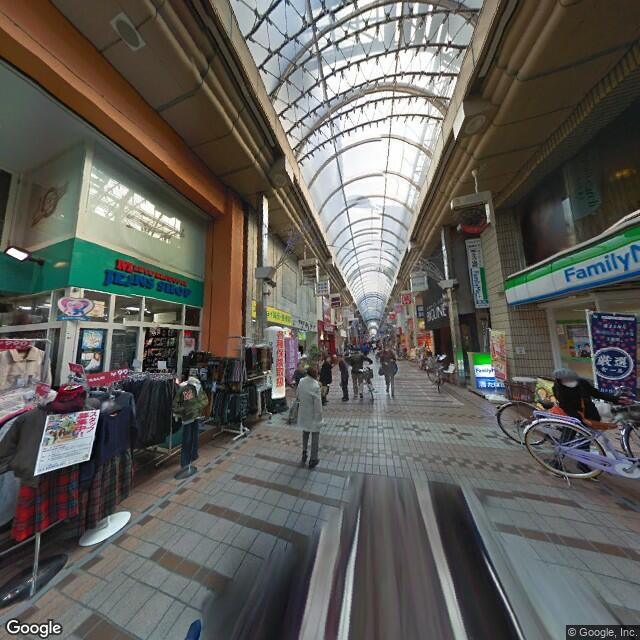family_mart: (504, 222, 639, 308)
